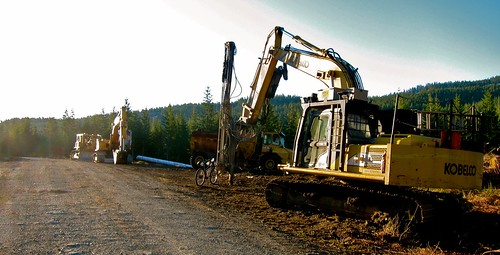excavator: (211, 61, 482, 218), (65, 109, 137, 162)
road: (1, 162, 303, 255)
sky: (5, 1, 500, 102)
truck: (186, 132, 292, 180)
vegetation: (5, 76, 495, 162)
